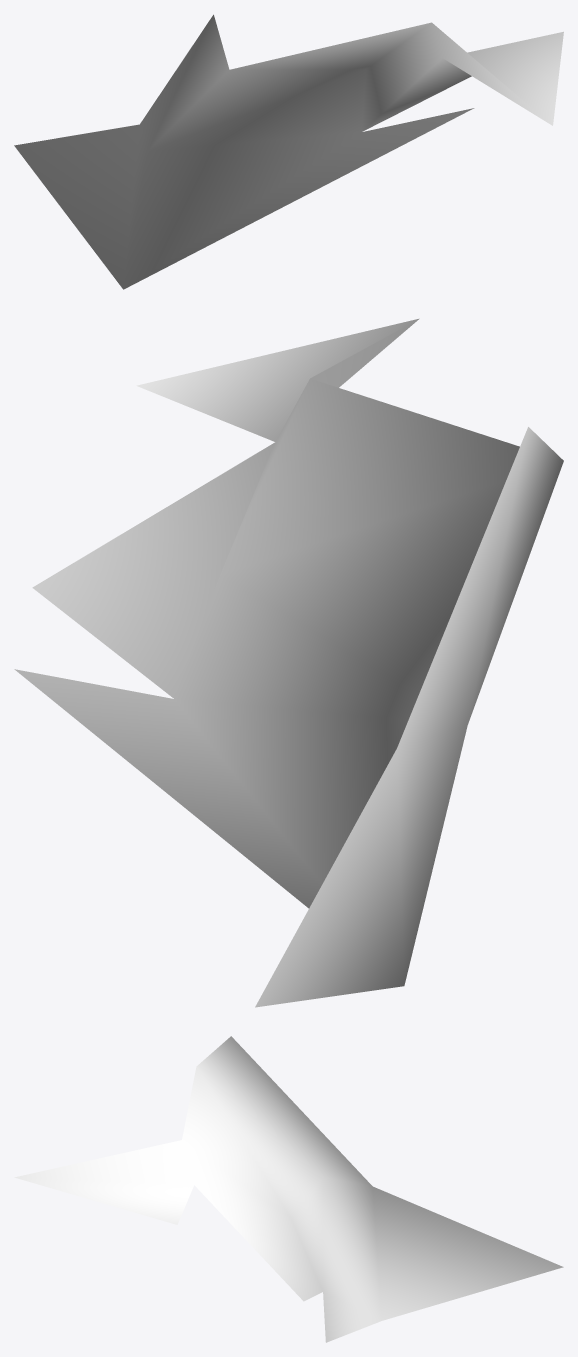
The picture shows the model from 3 angles, top to bottom: view 1: azimuth 30°, elevation 25°; view 2: azimuth 150°, elevation 25°; view 3: azimuth 270°, elevation 25°; orthographic projection. The views are drawn at different scales.
Size of the model in its own units: 0.3741 by 0.3713 by 0.6495.
1 material, 1 textured.
